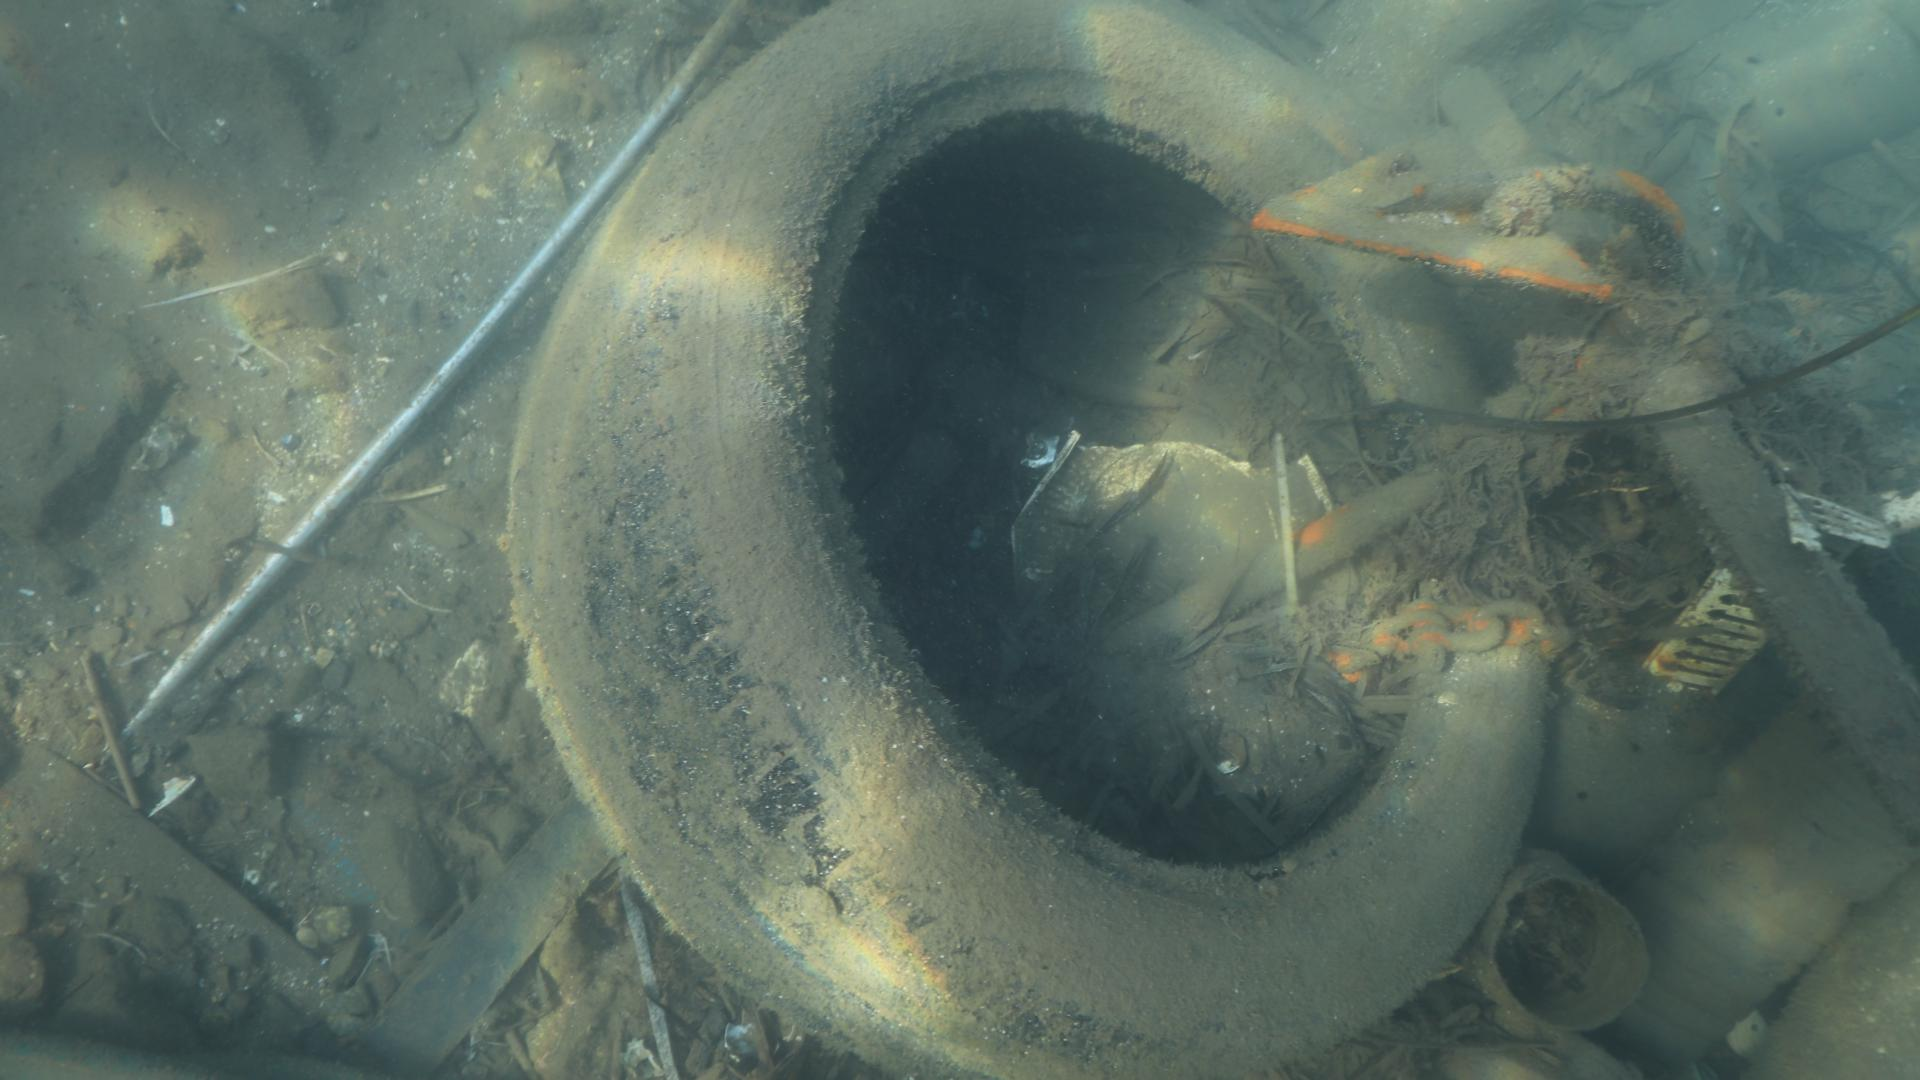tire: (506, 0, 1547, 1080)
